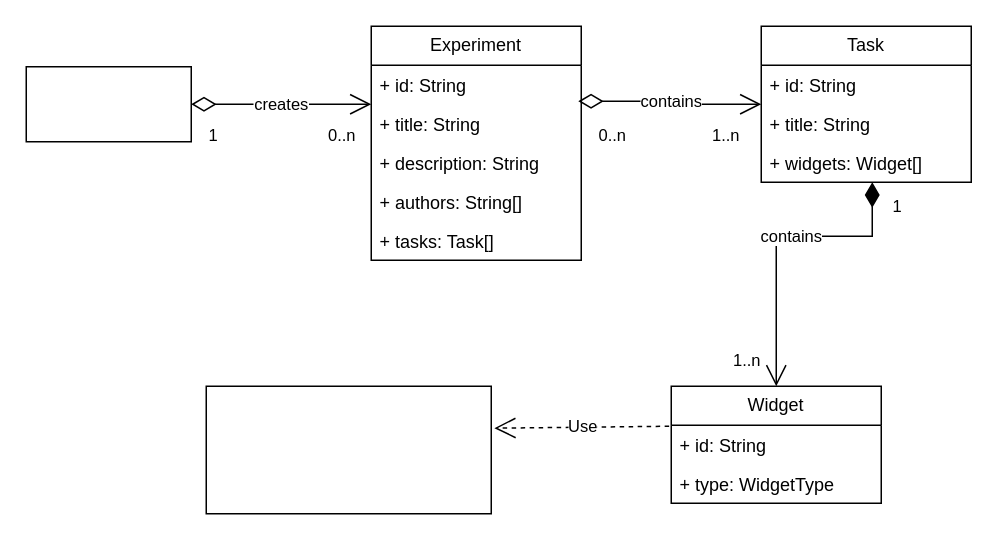
This 998x540 diagram has some shape labels left out. Each missing label, with the centre of its shape:
<<Enumeration>> WidgetType text: the point at 348,449
Toolkit: the point at 108,103
